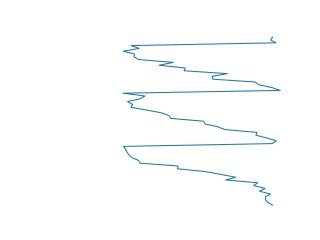distributaryMouthBar: (120, 35, 281, 208)
